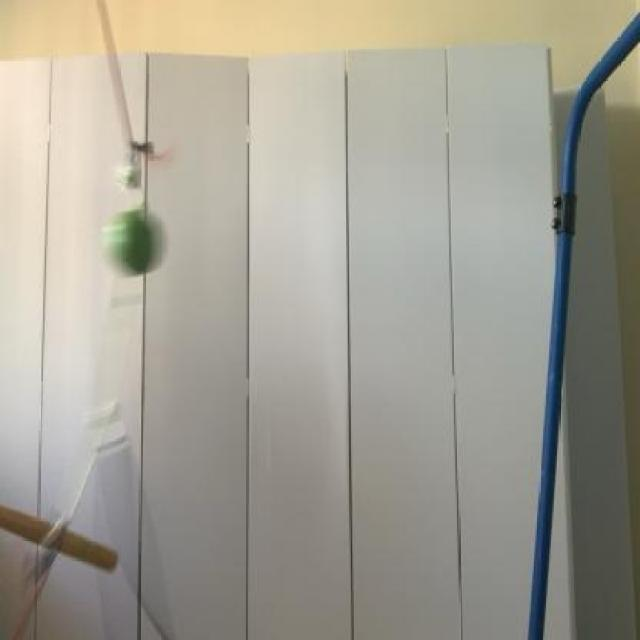baseball: (96, 198, 172, 284)
